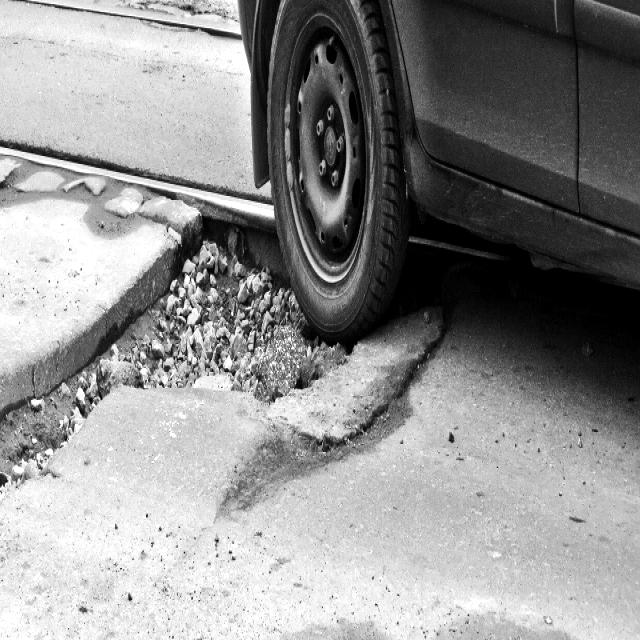pathole: (0, 190, 335, 640)
